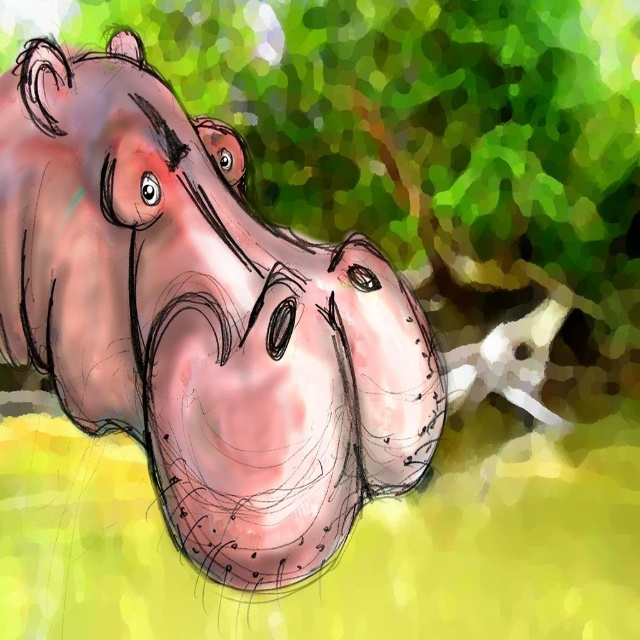Hippopotamus: (2, 35, 451, 594)
